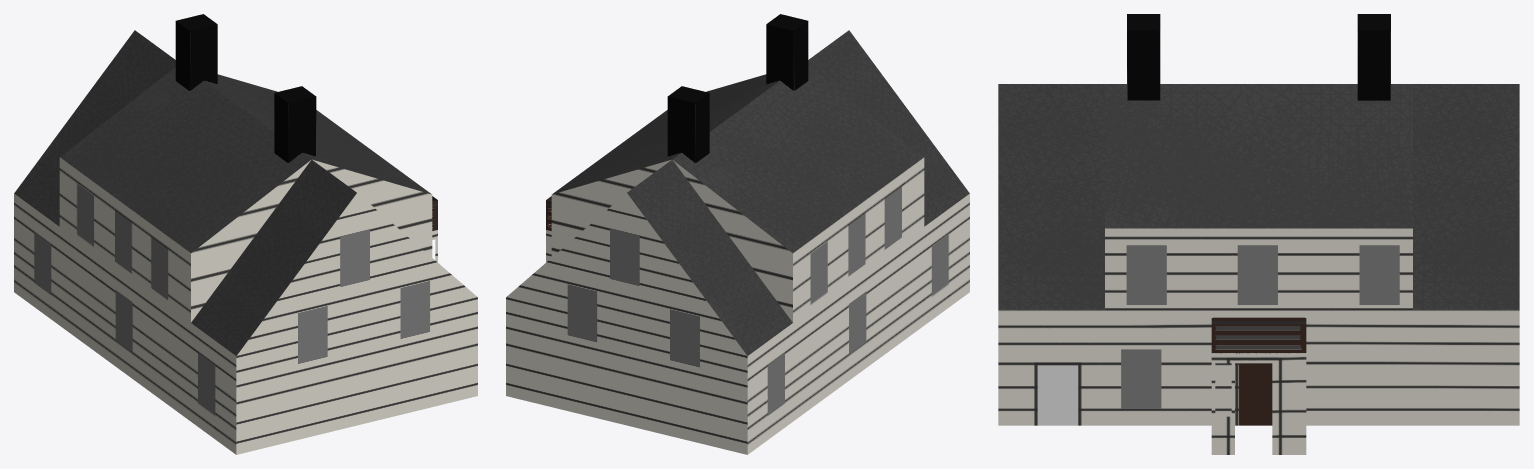
The model's file is House01.fbx.
3 views of the same model, side by side, from view 1: azimuth 30°, elevation 25°; view 2: azimuth 150°, elevation 25°; view 3: azimuth 270°, elevation 25° (orthographic). The views are drawn at different scales.
Visible parts, largest first — view 1: House01; view 2: House01; view 3: House01.
Boxes of the visible parts, x1,y1,x2,y2 form: House01: [14, 14, 477, 454]; House01: [506, 14, 969, 454]; House01: [998, 14, 1519, 454].
Size of the model in its own units: 7.3 by 6.8 by 9.6.
1 material, 1 textured.
